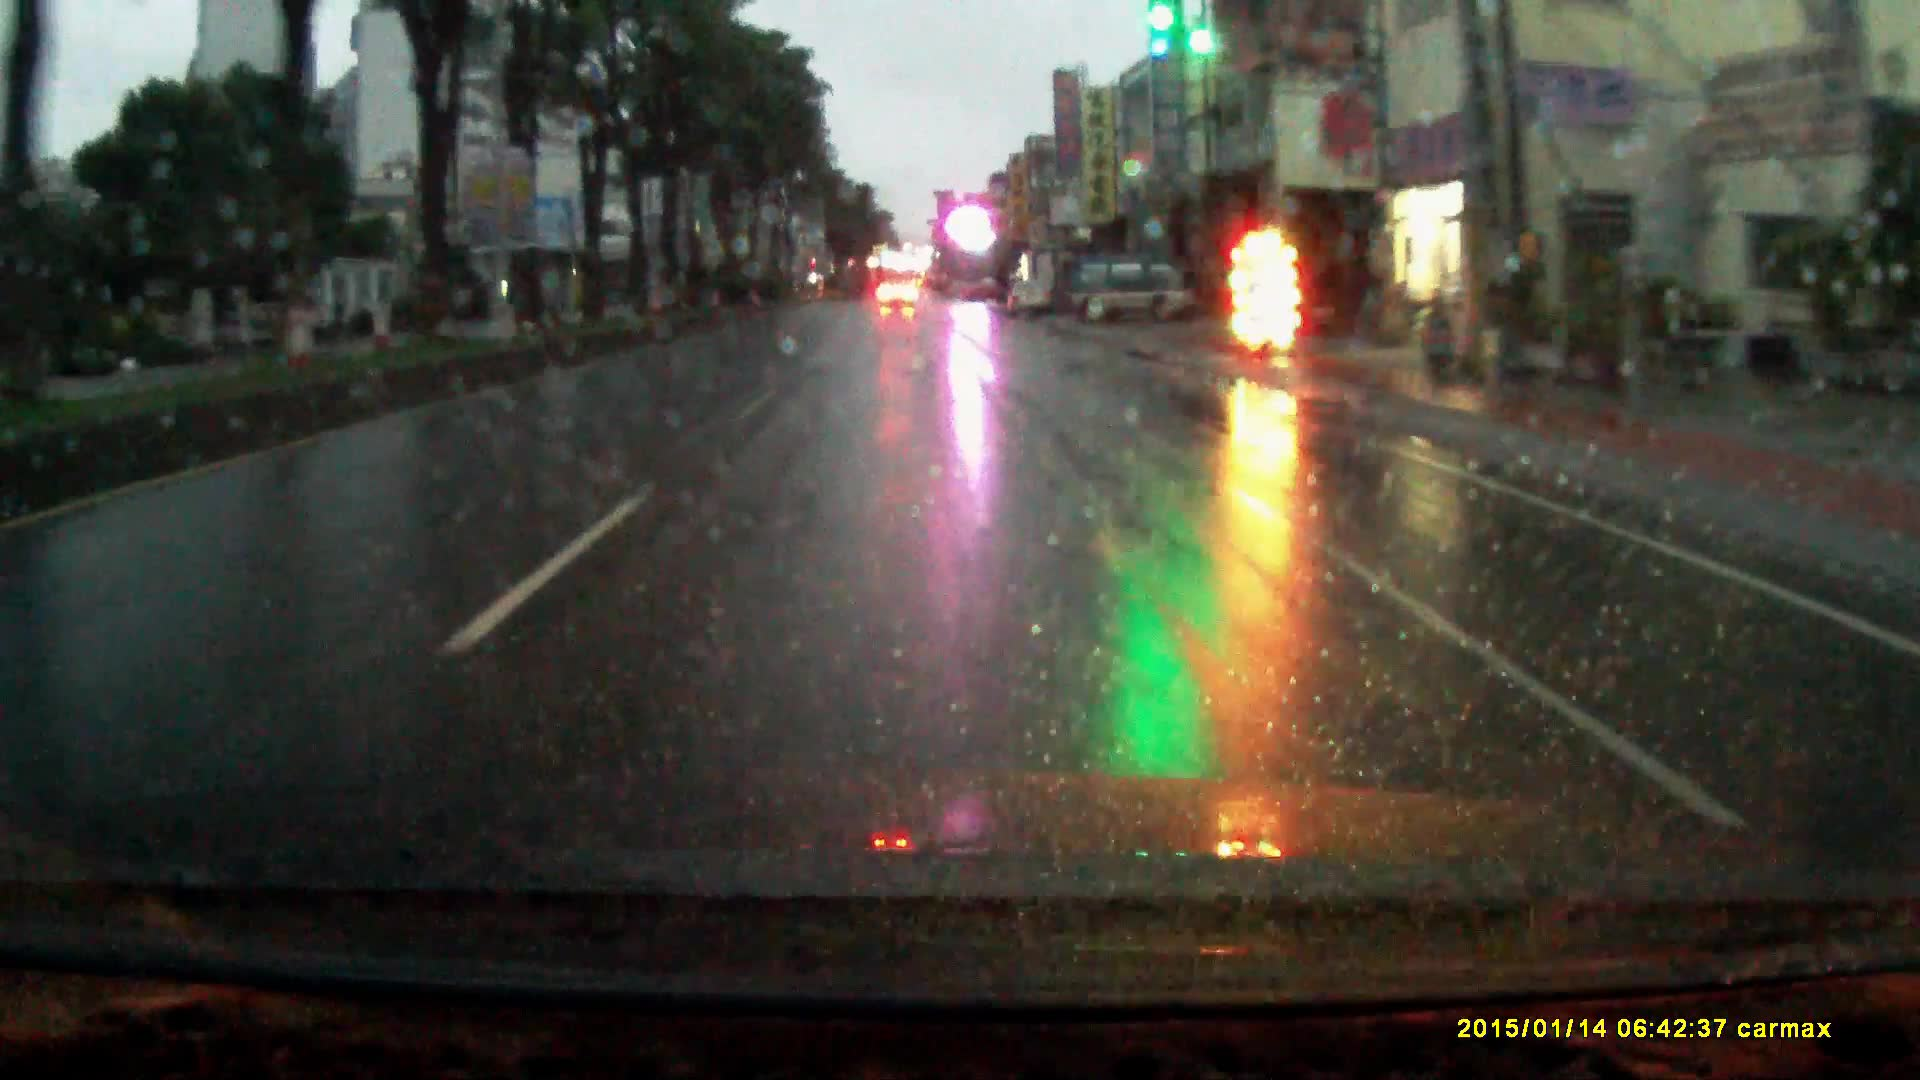vehicle: (1063, 255, 1203, 324), (1015, 245, 1081, 320), (1006, 280, 1056, 320), (878, 281, 920, 314)
